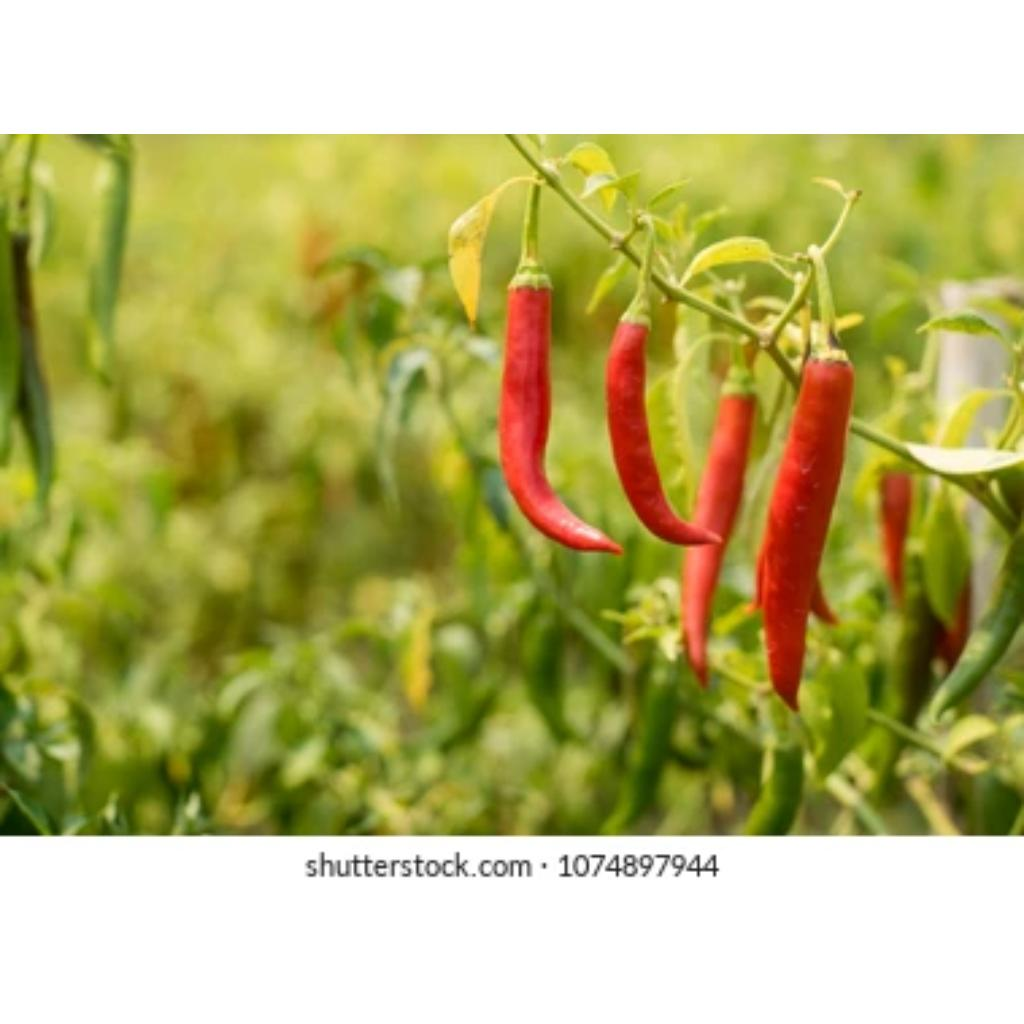chili: (606, 220, 720, 545), (758, 356, 854, 709), (498, 286, 620, 553), (682, 394, 754, 685)
